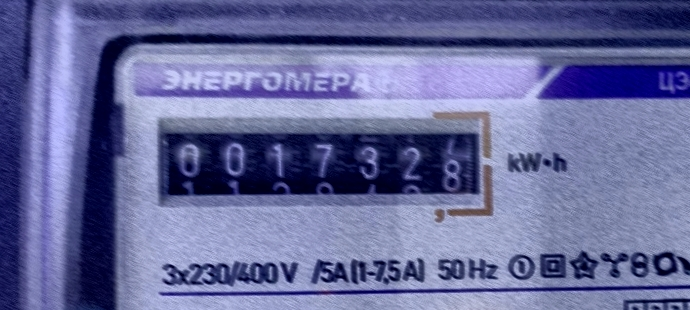0: (175, 138, 202, 178), (223, 138, 246, 176)
1: (268, 138, 287, 178)
2: (399, 143, 422, 180)
3: (358, 142, 380, 179)
7: (312, 139, 335, 178)
8: (441, 155, 460, 191)
screen: (146, 105, 502, 230)
